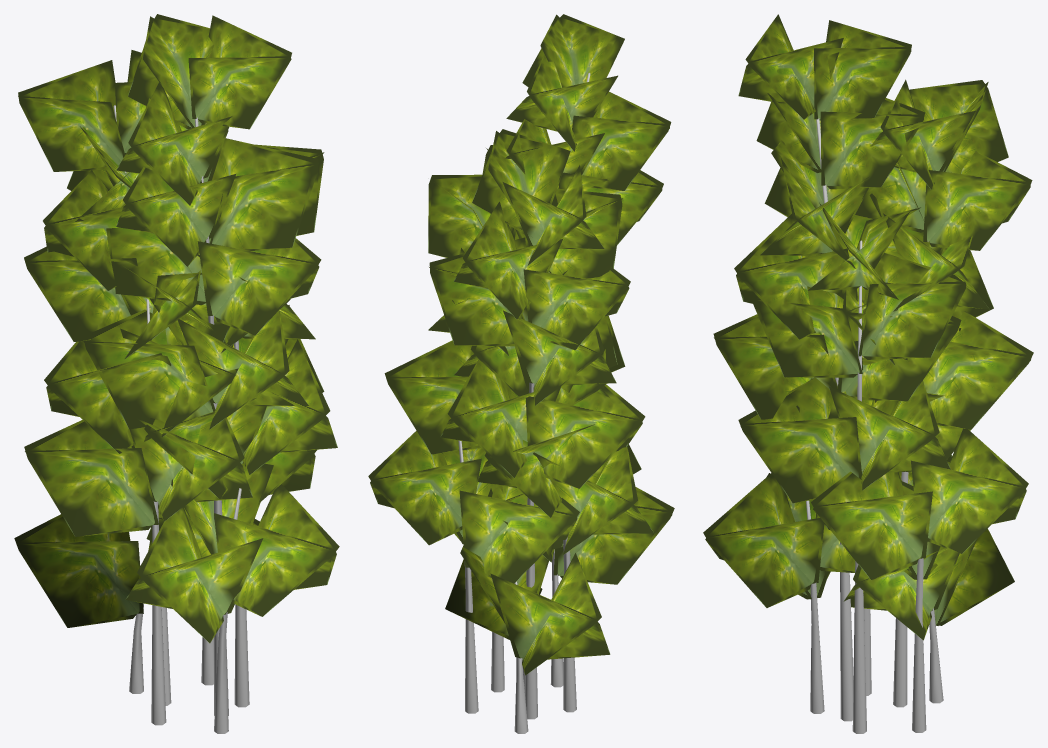
Rendered from Bamboo.fbx.
3 renders of one model, left to right at view 1: azimuth 30°, elevation 25°; view 2: azimuth 150°, elevation 25°; view 3: azimuth 270°, elevation 25°, orthographic. The views are drawn at different scales.
Parts seen in each view (by area): view 1: Tree_1, Tree_0; view 2: Tree_1, Tree_0; view 3: Tree_1, Tree_0.
Part boxes in pixels (<box>): Tree_1: <box>14,14,339,643</box>; Tree_0: <box>113,105,249,733</box>; Tree_1: <box>368,14,674,675</box>; Tree_0: <box>458,72,590,733</box>; Tree_1: <box>703,14,1033,640</box>; Tree_0: <box>806,118,943,733</box>.
Size of the model in its own units: 168 by 418 by 185.
Materials: 1 (1 with a texture image).
